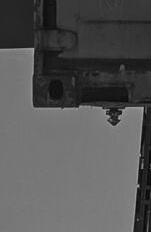twist_lock_2: (100, 102, 127, 129)
